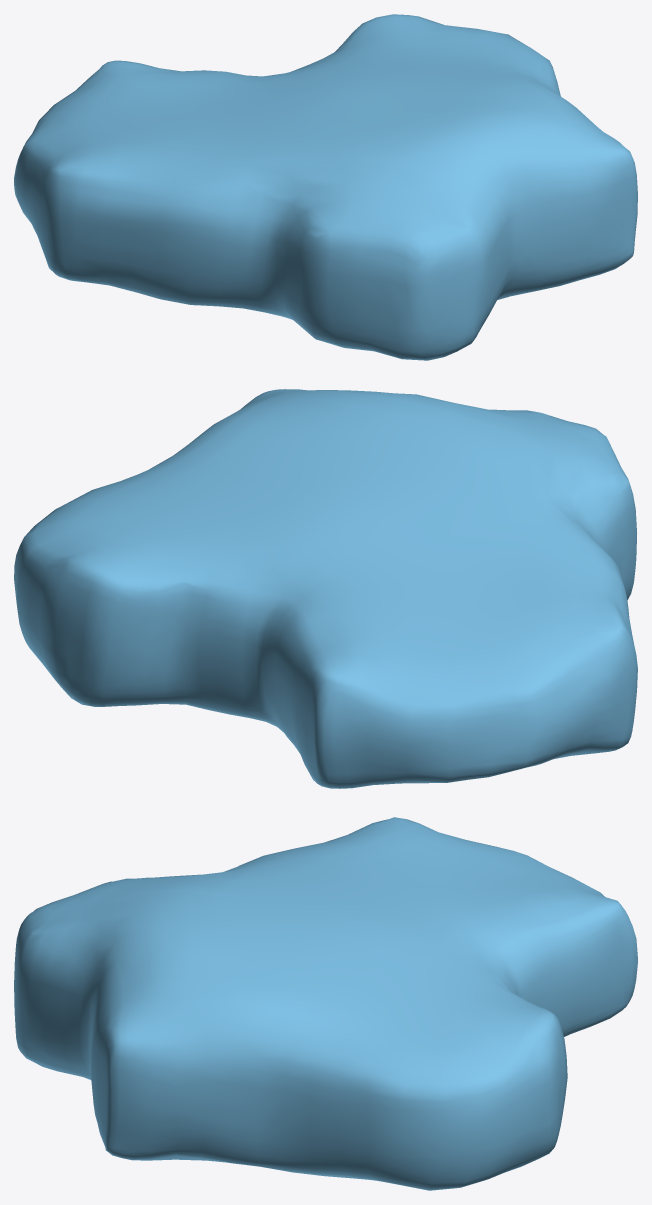
Rendered from Platform2.fbx.
3 renders of one model, top to bottom at view 1: azimuth 30°, elevation 25°; view 2: azimuth 150°, elevation 25°; view 3: azimuth 270°, elevation 25°, orthographic. The views are drawn at different scales.
Visible parts, largest first — view 1: Retopo_Cube.004; view 2: Retopo_Cube.004; view 3: Retopo_Cube.004.
Part boxes in pixels (<box>): Retopo_Cube.004: <box>14,14,637,360</box>; Retopo_Cube.004: <box>14,389,637,788</box>; Retopo_Cube.004: <box>14,817,637,1190</box>.
Bounding box in the file's own units: 497 × 171 × 486.
